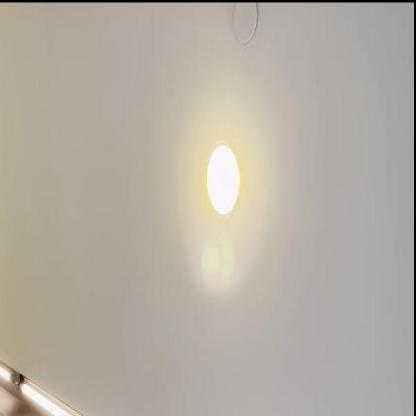light_on: (197, 128, 247, 223)
